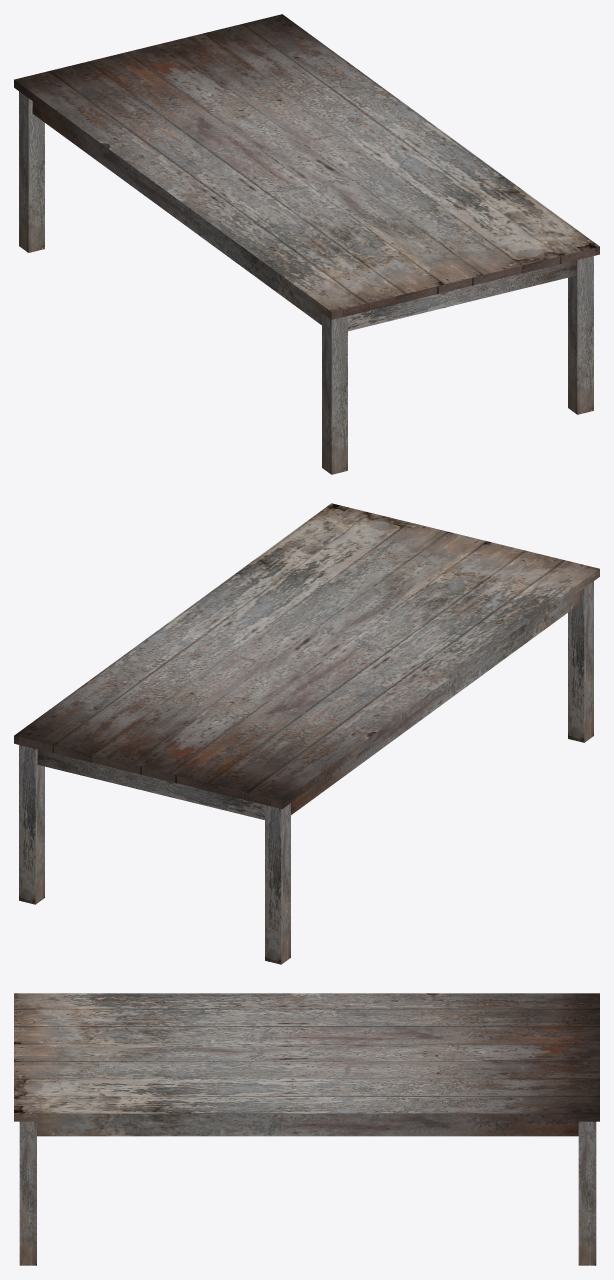
The model's file is Mesa.FBX.
The picture shows the model from 3 angles, top to bottom: view 1: azimuth 30°, elevation 25°; view 2: azimuth 150°, elevation 25°; view 3: azimuth 270°, elevation 25°; orthographic projection. The views are drawn at different scales.
Parts seen in each view (by area): view 1: mesa; view 2: mesa; view 3: mesa.
Part boxes in pixels (x1,y1,x2,y2): mesa: [14, 14, 599, 474]; mesa: [14, 503, 599, 964]; mesa: [14, 993, 599, 1265].
Bounding box in the file's own units: 38.43 × 22.67 × 78.75.
